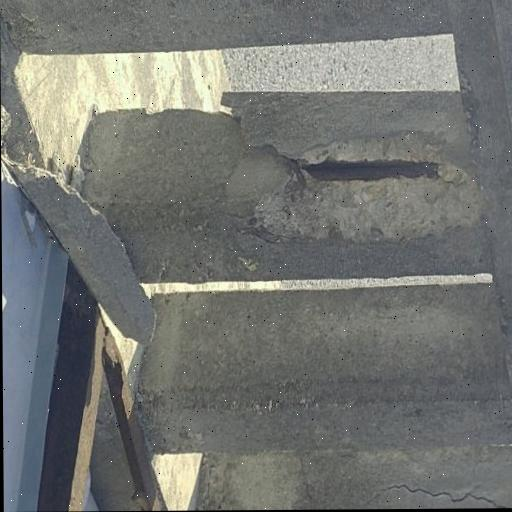exposed_rebar: (303, 159, 441, 180)
